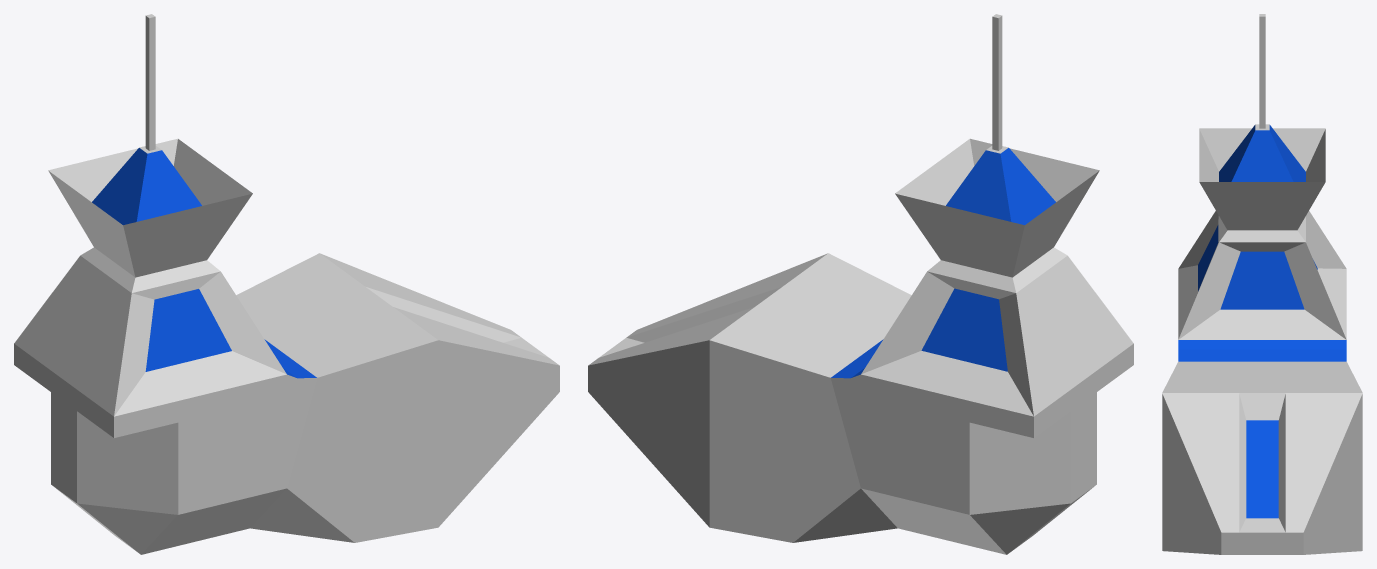
Rendered from PoineerHub.fbx.
3 renders of one model, left to right at view 1: azimuth 30°, elevation 25°; view 2: azimuth 150°, elevation 25°; view 3: azimuth 270°, elevation 25°, orthographic. The views are drawn at different scales.
Parts seen in each view (by area): view 1: PoineerHub; view 2: PoineerHub; view 3: PoineerHub.
Part boxes in pixels (x1,y1,x2,y2): PoineerHub: [14, 14, 559, 554]; PoineerHub: [588, 14, 1133, 554]; PoineerHub: [1162, 14, 1362, 554].
Size of the model in its own units: 229 by 243 by 100.
